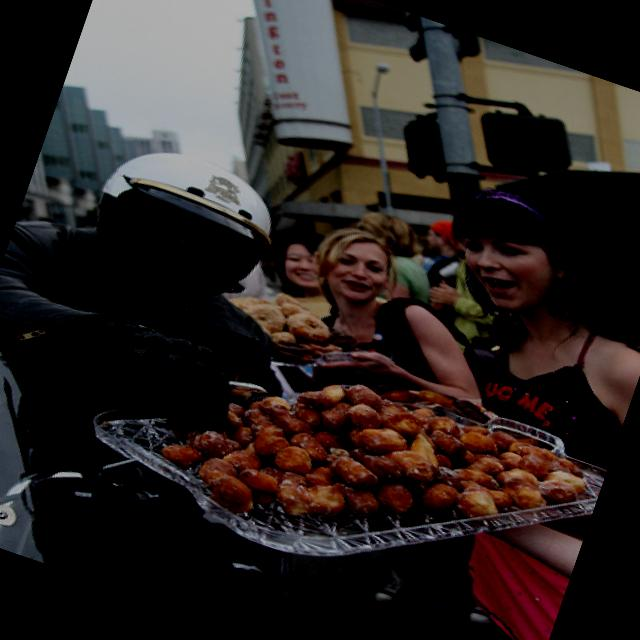Vehicle: (0, 307, 207, 594)
